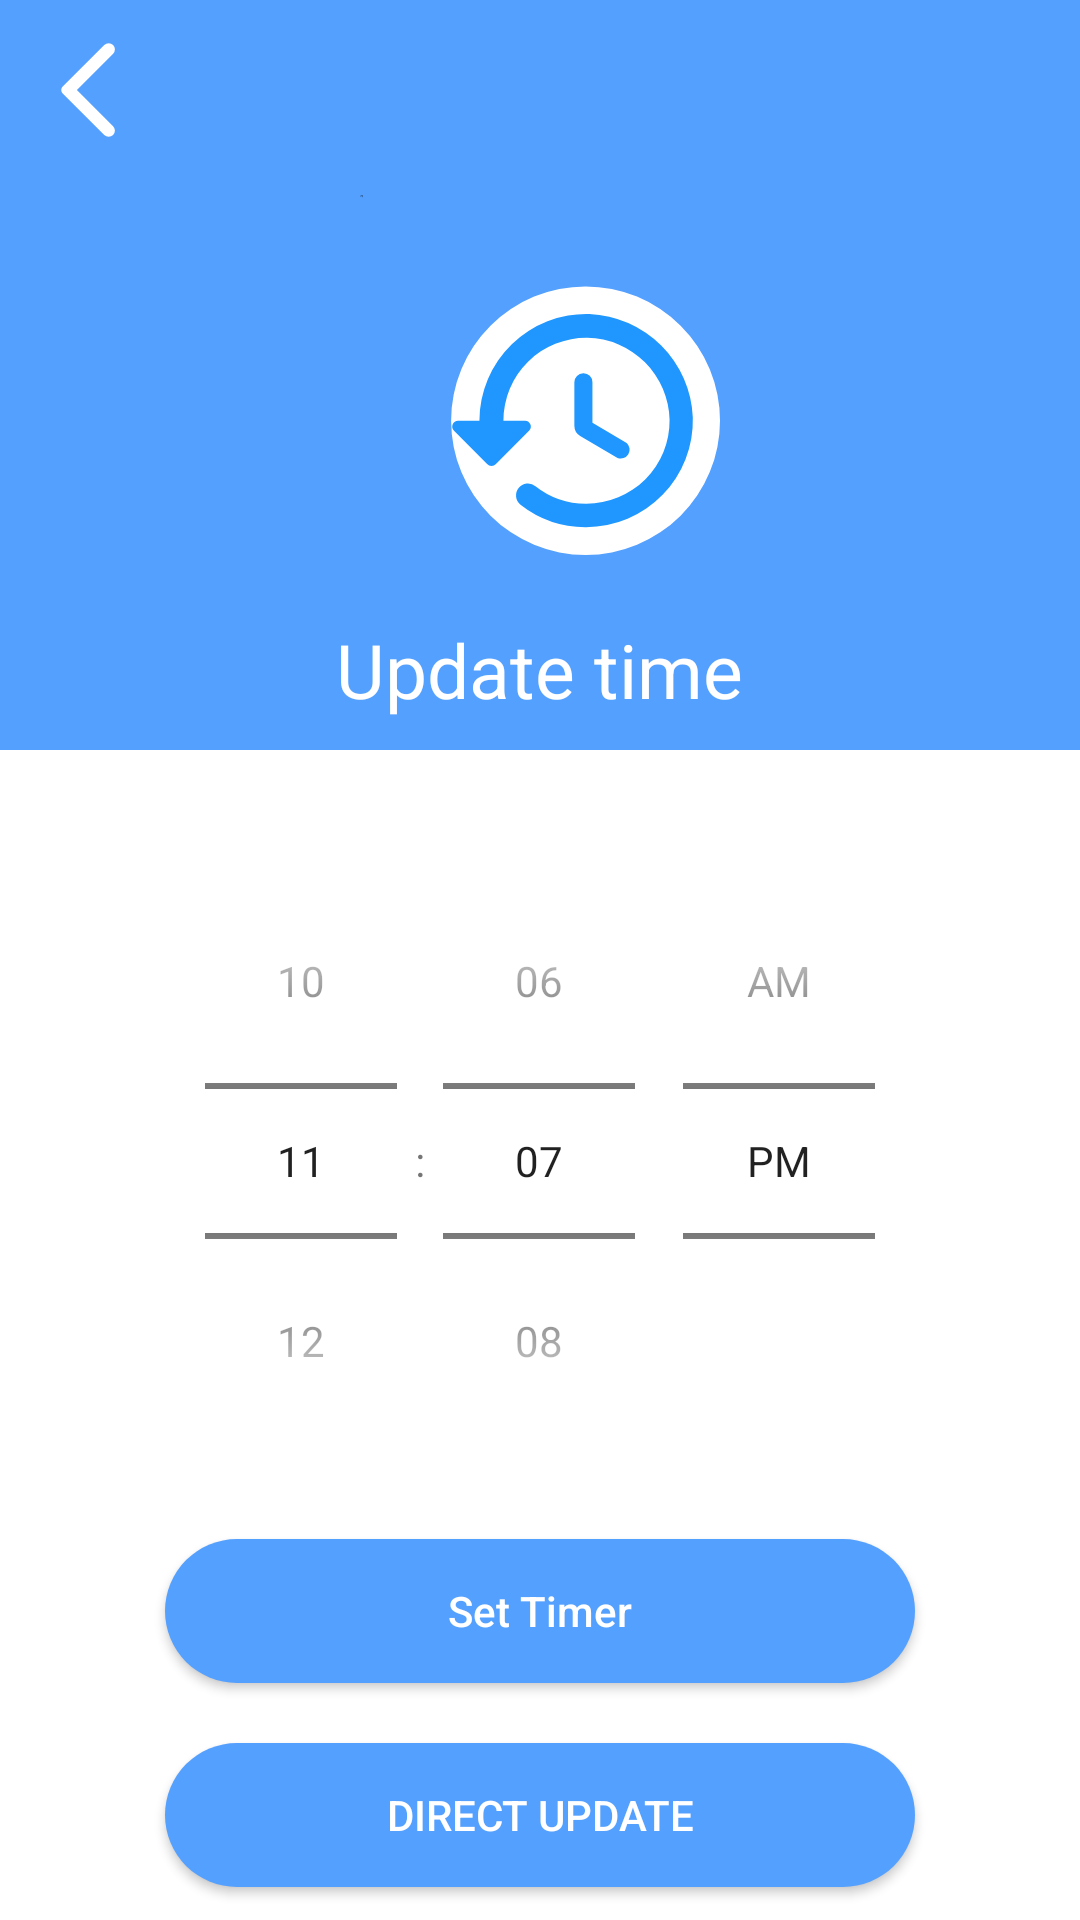

Screen size 1080w x 1920h. Icon name, then its box in pixels as (x1, y1, x2, y2):
arrow back: (61, 43, 115, 137)
